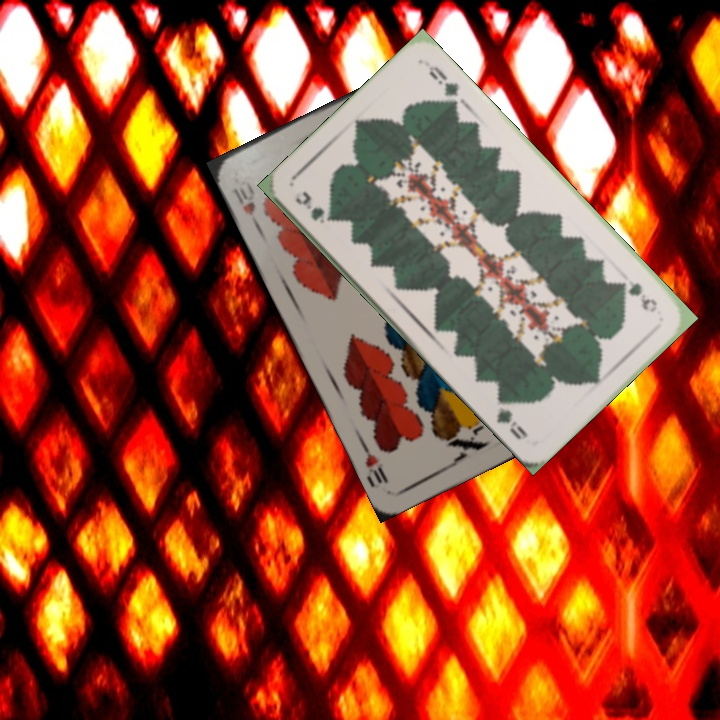G9: (291, 186, 336, 227), (615, 275, 660, 316)
H10: (228, 176, 263, 231)
